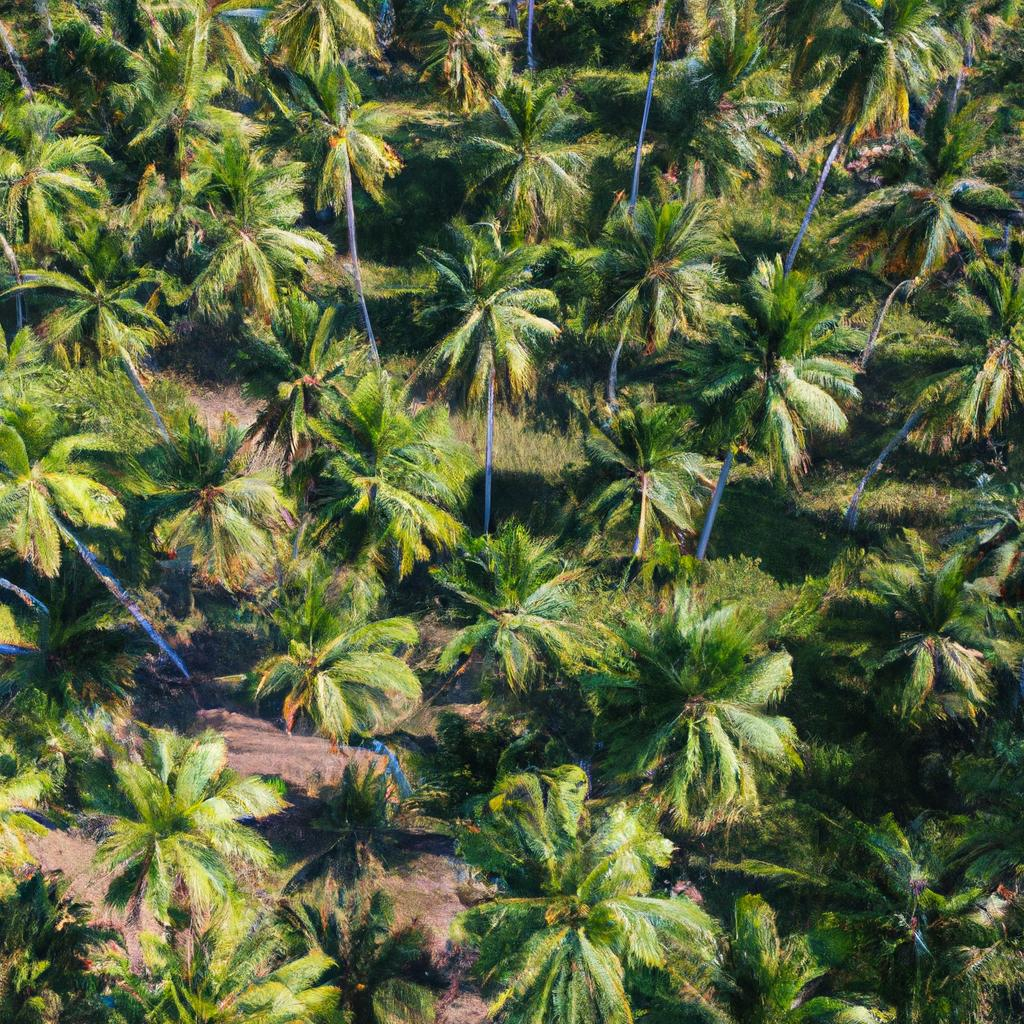coconut_tree: (427, 747, 718, 1023), (597, 608, 824, 821), (400, 489, 624, 693), (78, 705, 294, 912), (305, 372, 519, 564), (208, 554, 437, 732), (669, 254, 850, 470), (145, 151, 332, 335), (583, 186, 761, 354), (143, 428, 311, 599), (248, 567, 407, 728), (411, 235, 559, 385), (278, 69, 419, 212)
